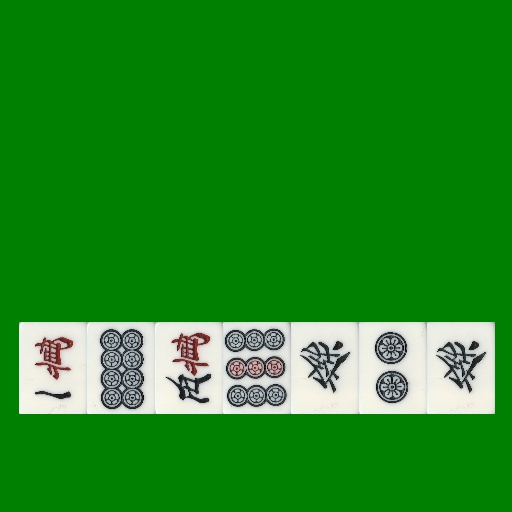1m: (19, 322, 87, 414)
2p: (359, 322, 427, 414)
5m: (155, 322, 223, 414)
8p: (87, 322, 155, 414)
9p: (223, 322, 291, 414)
hatsu: (291, 322, 359, 414), (427, 322, 495, 414)
